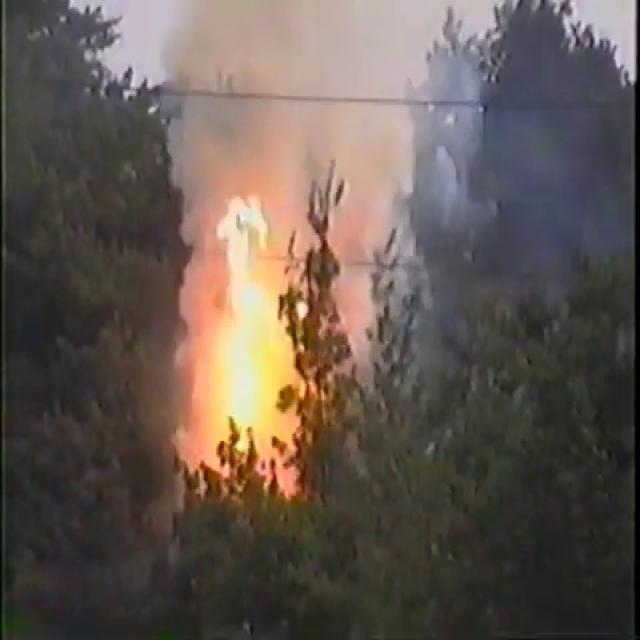Fire: (185, 184, 320, 486)
Smoke: (145, 0, 510, 235)
